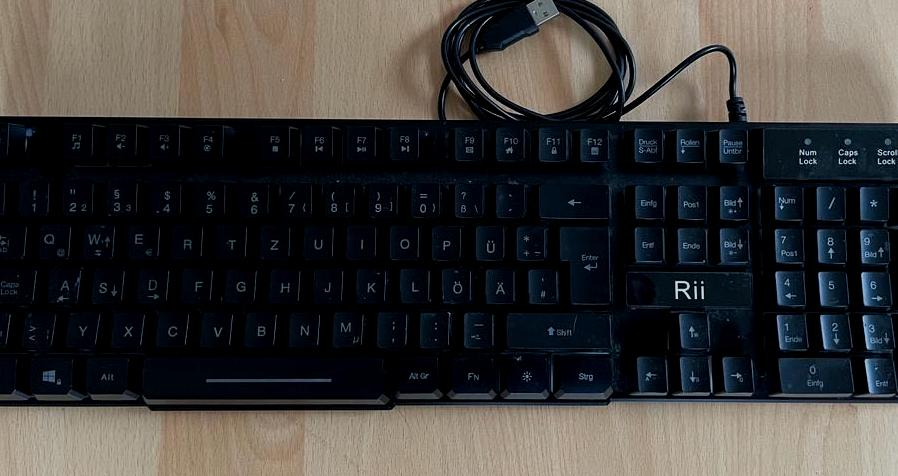0: (406, 178, 439, 217)
1: (14, 174, 49, 215)
2: (59, 176, 92, 214)
3: (101, 175, 136, 215)
4: (147, 176, 182, 215)
5: (191, 176, 226, 216)
6: (233, 176, 269, 217)
7: (277, 177, 311, 217)
8: (319, 177, 354, 217)
9: (363, 178, 398, 217)
a: (44, 262, 80, 303)
accent: (492, 179, 524, 216)
ae: (481, 263, 515, 303)
alt-left: (82, 351, 128, 392)
altgr-right: (393, 352, 438, 391)
b: (240, 307, 277, 346)
c: (152, 306, 189, 346)
caret: (1, 177, 17, 215)
comma: (373, 306, 407, 346)
d: (133, 262, 168, 302)
del: (534, 179, 608, 217)
e: (123, 219, 158, 258)
enter: (555, 220, 609, 303)
f: (178, 263, 212, 302)
g: (221, 263, 256, 302)
h: (266, 264, 299, 302)
hash: (524, 264, 557, 302)
i: (343, 220, 375, 258)
j: (309, 263, 342, 302)
k: (352, 263, 386, 302)
keyboard: (1, 110, 898, 419)
l: (396, 263, 428, 301)
less: (18, 306, 55, 346)
m: (327, 306, 363, 346)
minus: (460, 306, 492, 346)
n: (284, 307, 321, 346)
o: (386, 221, 419, 258)
oe: (438, 264, 470, 302)
p: (428, 221, 461, 259)
plus: (512, 221, 543, 259)
point: (416, 307, 449, 346)
q: (34, 219, 70, 259)
r: (168, 220, 202, 258)
s: (88, 262, 124, 303)
shift-left: (1, 307, 24, 347)
shift-lock: (1, 263, 36, 303)
shift-right: (502, 308, 610, 347)
space: (138, 350, 385, 399)
ss: (450, 178, 482, 217)
strg-left: (1, 352, 29, 392)
strg-right: (556, 351, 613, 395)
t: (212, 220, 245, 257)
tab: (1, 220, 29, 259)
u: (299, 221, 332, 259)
ue: (472, 221, 504, 259)
v: (197, 306, 232, 346)
w: (79, 218, 114, 258)
x: (108, 306, 143, 346)
y: (63, 307, 99, 346)
z: (256, 220, 290, 258)
